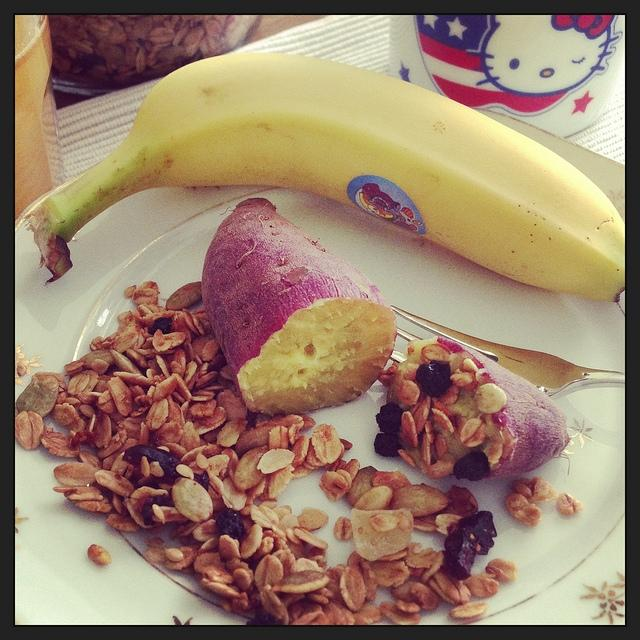banana: (22, 53, 626, 304)
